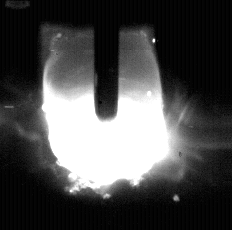arame: (96, 0, 119, 121)
poca: (47, 0, 168, 230)
